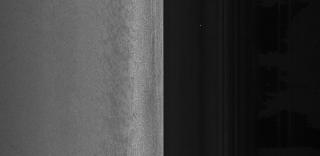silk spot: (106, 60, 132, 109)
